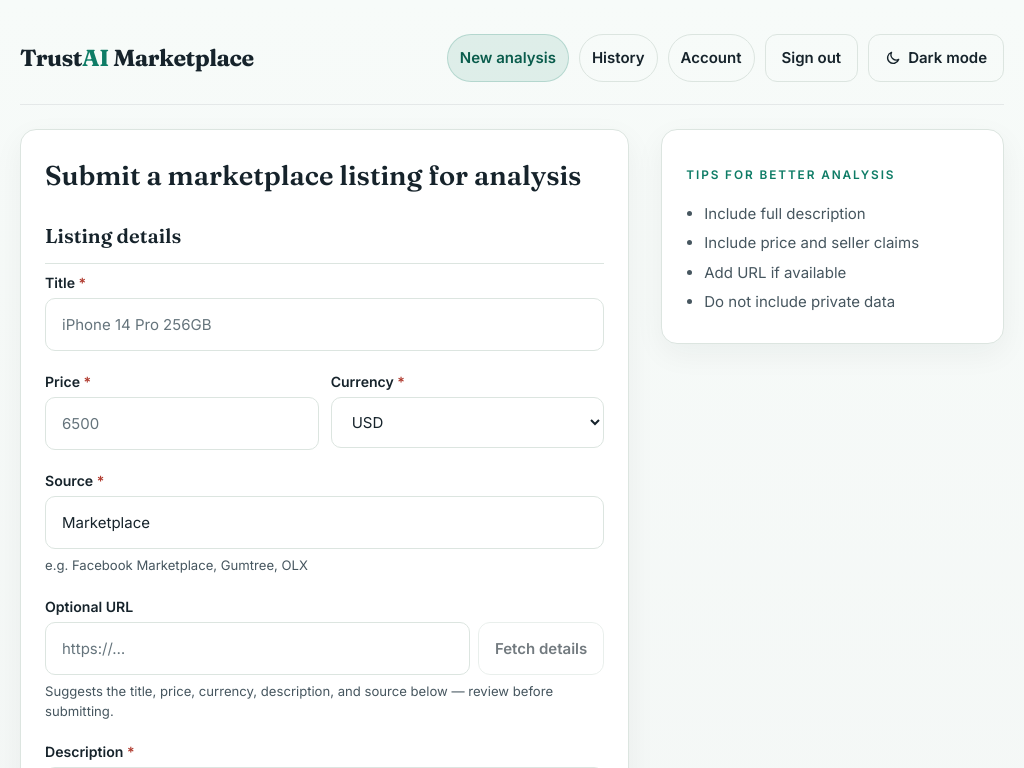
Scenario: App session expiry mid-session › falls back to the login screen and shows a notice, without a token-less retry
Click the button "History" at (618, 58), box [579,34,658,82]
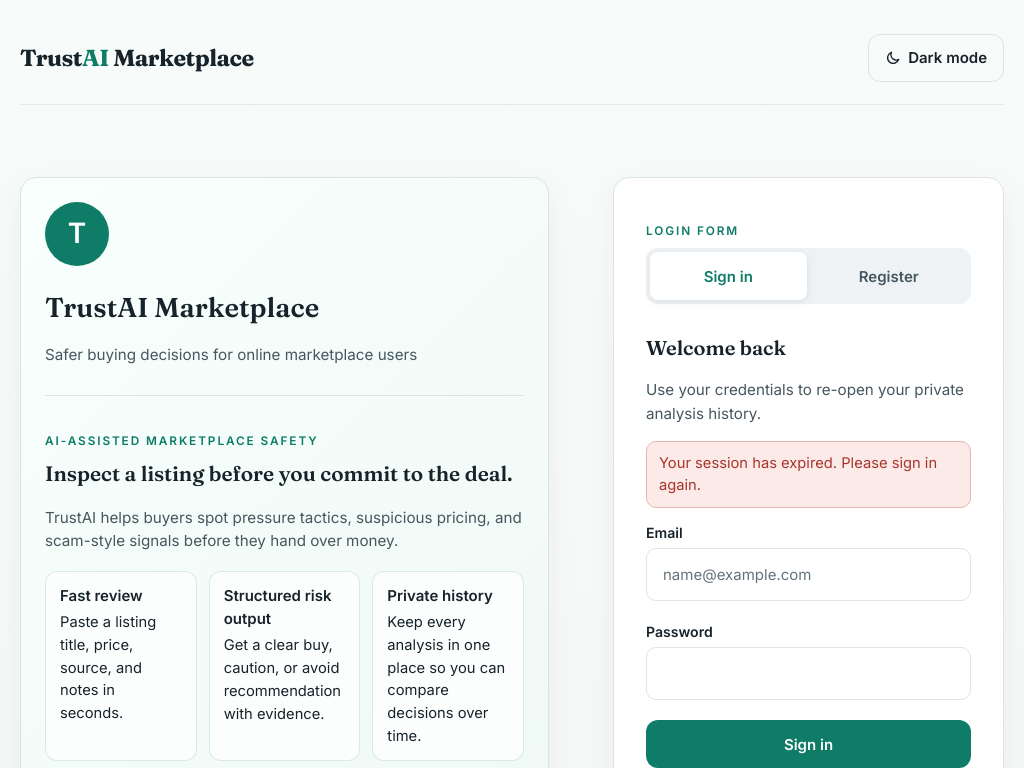
Expected: the text "Your session has expired. Please sign in again." is shown, [646,441,971,508]
